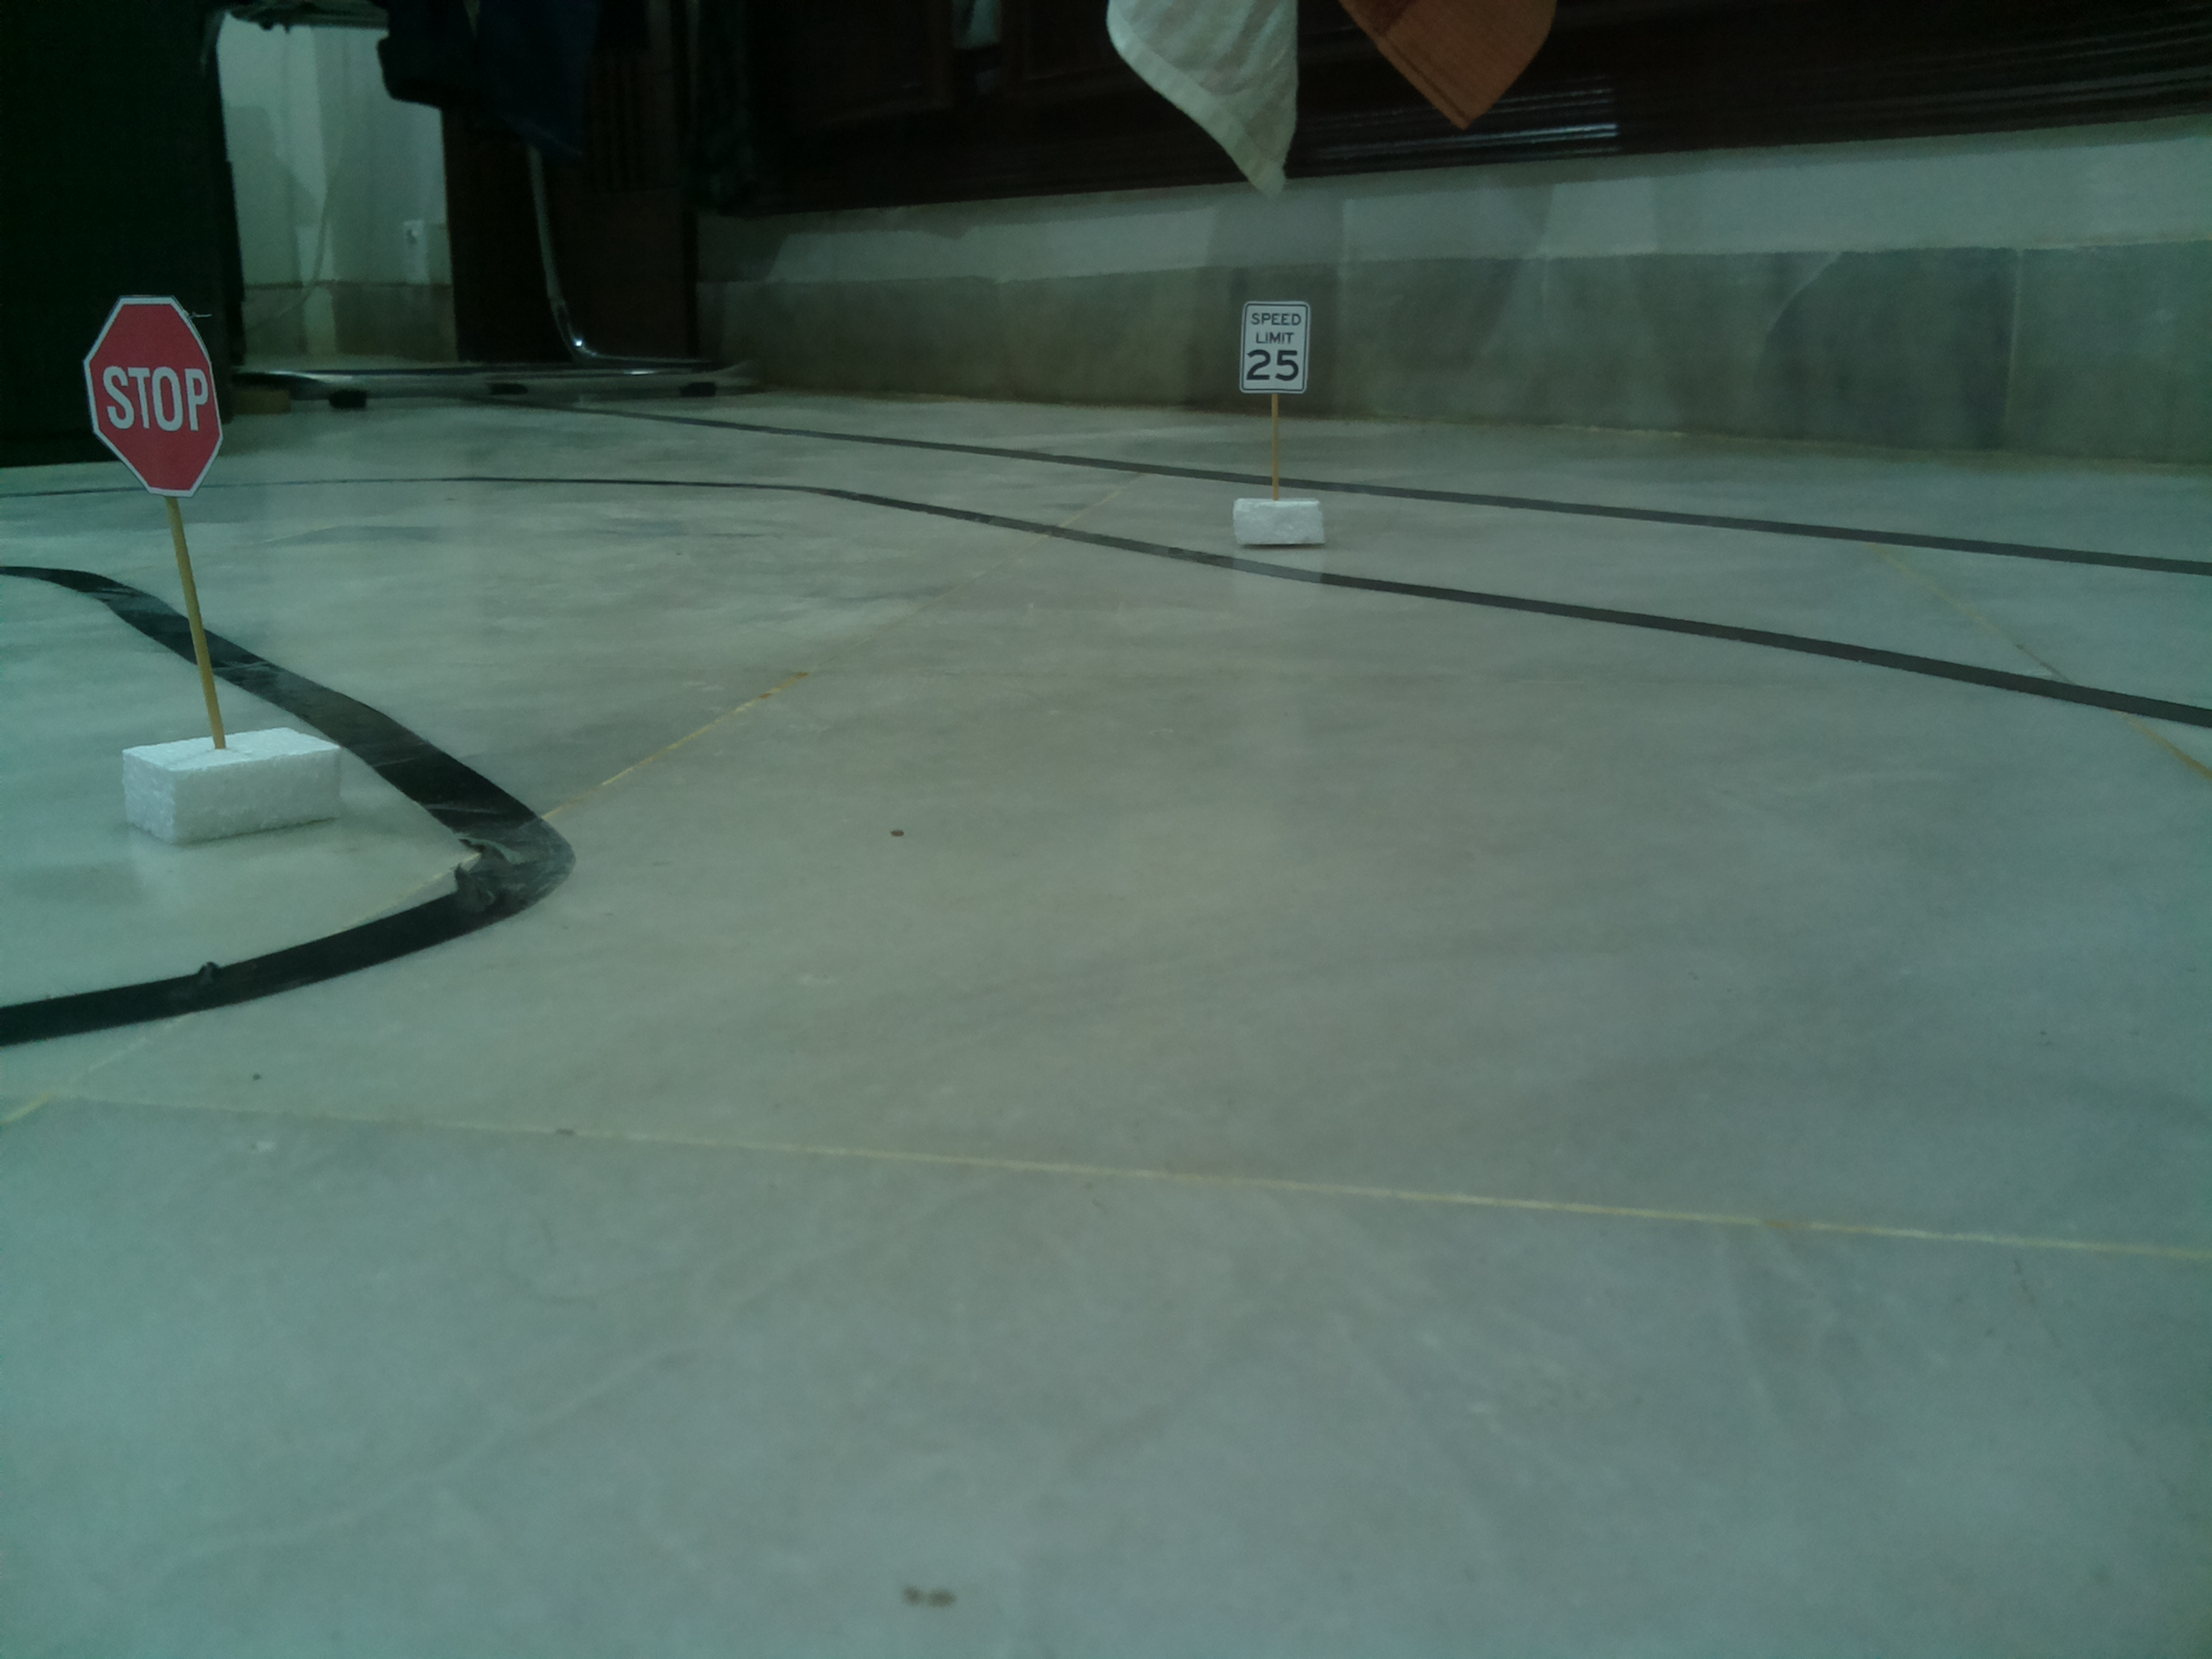Speed limit 25: (1235, 296, 1317, 397)
Stop sign: (68, 279, 223, 498)
